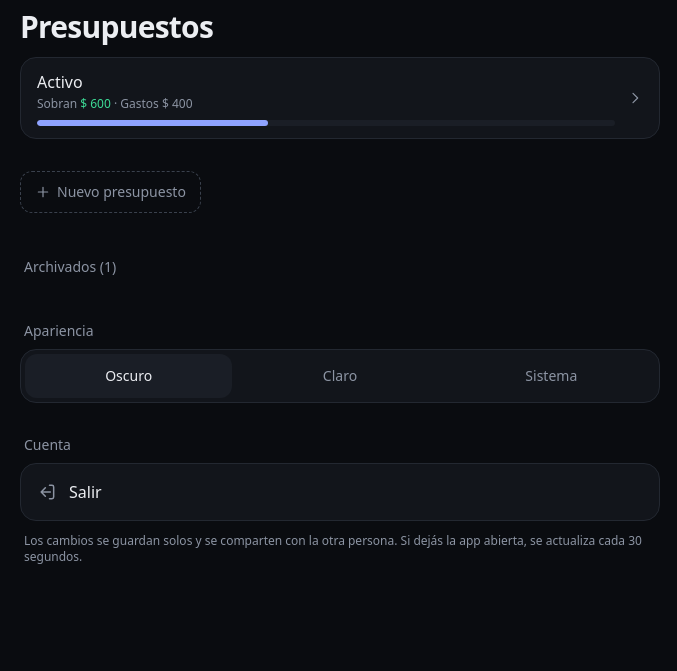
Scenario: lista de presupuestos › los archivados van aparte y se pueden mostrar
This screenshot has width=677, height=671.
Expected: the button "Activo Sobran $ 600 · Gastos $ 400" is shown, [21,58,659,138]
Expected: the button "Viejo" is not shown
Click the button "Archivados (1)" at (70, 267), box [20,245,120,289]
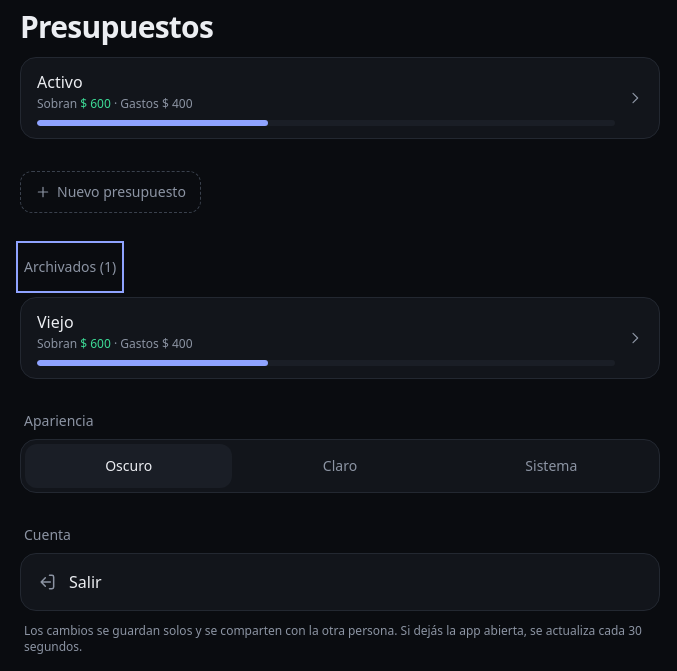
Expected: the button "Viejo Sobran $ 600 · Gastos $ 400" is shown, [21,298,659,378]
